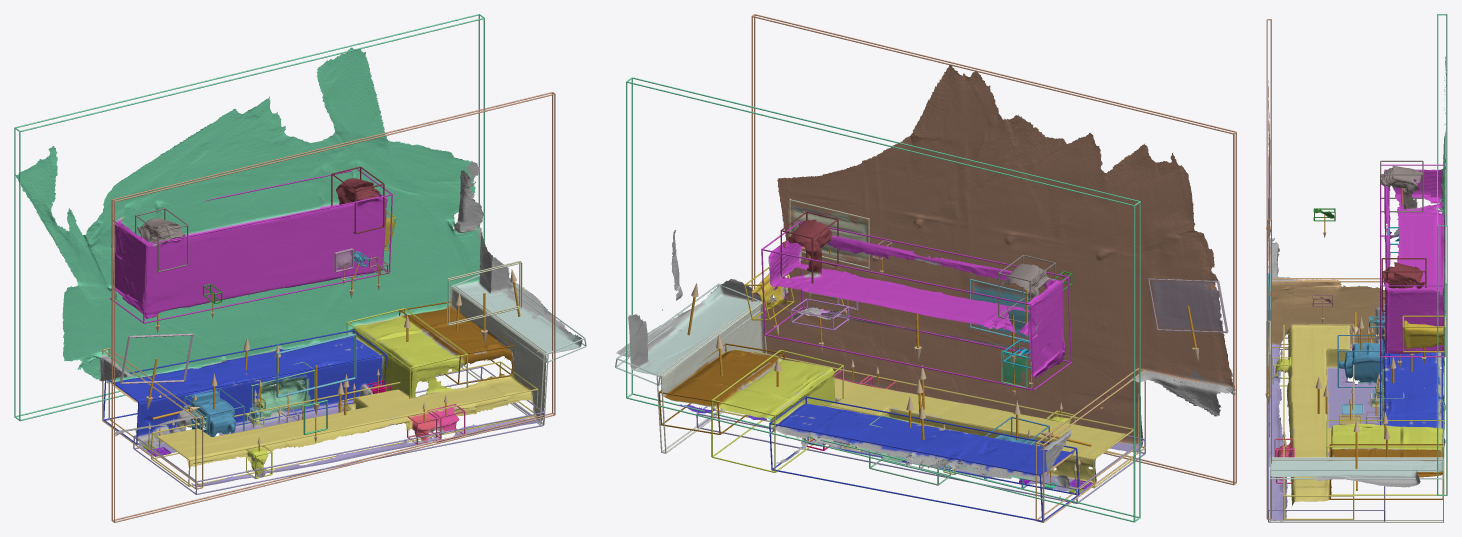
Rendered from scene_00025_00-obb.compressed.gltf.
3 renders of one model, left to right at view 1: azimuth 30°, elevation 25°; view 2: azimuth 150°, elevation 25°; view 3: azimuth 270°, elevation 25°, orthographic. The views are drawn at different scales.
Bounding box in the file's own units: 8.19 × 5.31 × 2.82.
